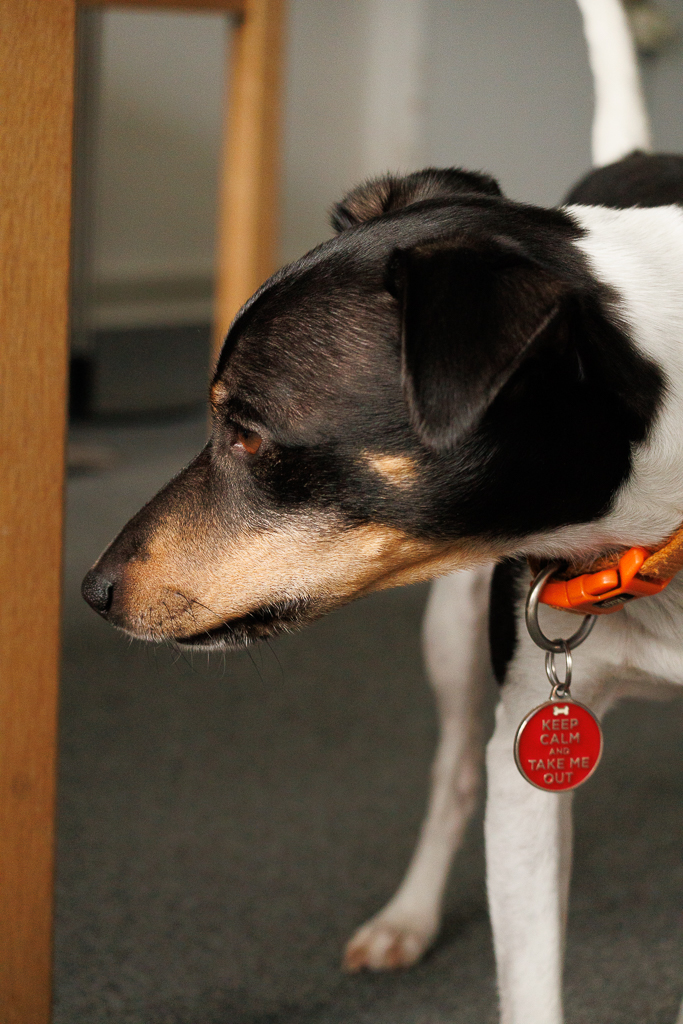Dog: (65, 0, 683, 1024)
